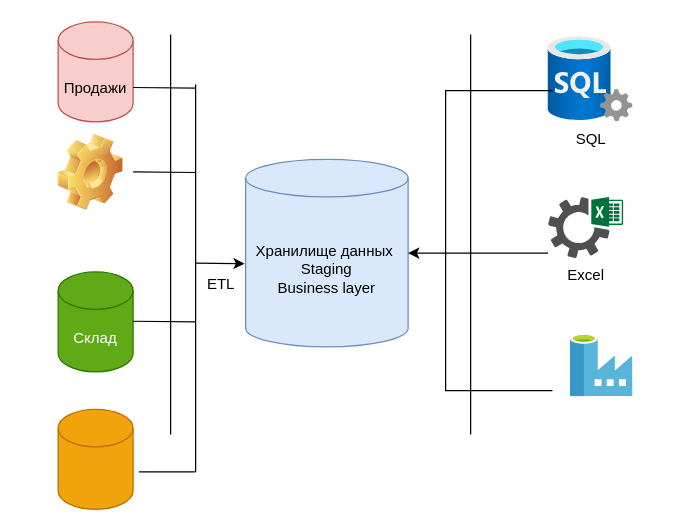
Some shapes in this 694 by 531 pixel diagram are drawn without their labels. The shapes that lost their labels are listed below. From the top down, each one's centre as x and y in pixels, then its label:
the point at 90,172: Google Analytics API
the point at 601,365: Business Intelligence
the point at 95,458: CRM
